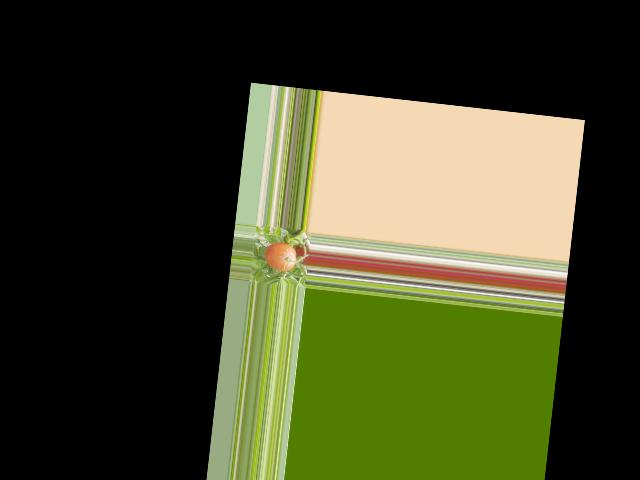tomato: (264, 241, 297, 272)
